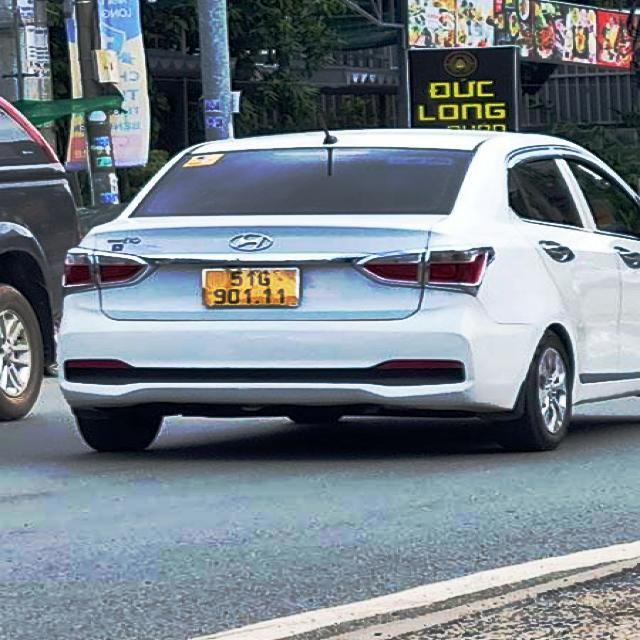license_plate: (202, 268, 303, 308)
